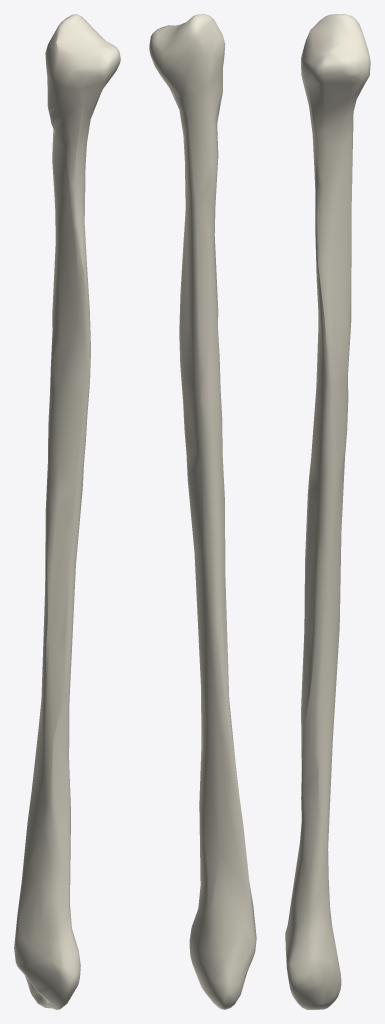
The model's file is fma24481_fj3260.glb.
3 views of the same model, side by side, from view 1: azimuth 30°, elevation 25°; view 2: azimuth 210°, elevation 25°; view 3: azimuth 330°, elevation 25° (orthographic).
Parts seen in each view (by area): view 1: FMA24481_FJ3260; view 2: FMA24481_FJ3260; view 3: FMA24481_FJ3260.
Part boxes in pixels (x1,y1,x2,y2): FMA24481_FJ3260: [14, 14, 120, 1009]; FMA24481_FJ3260: [149, 14, 256, 1009]; FMA24481_FJ3260: [285, 14, 370, 1009].
Bounding box in the file's own units: 0.0356 × 0.3843 × 0.0296.
